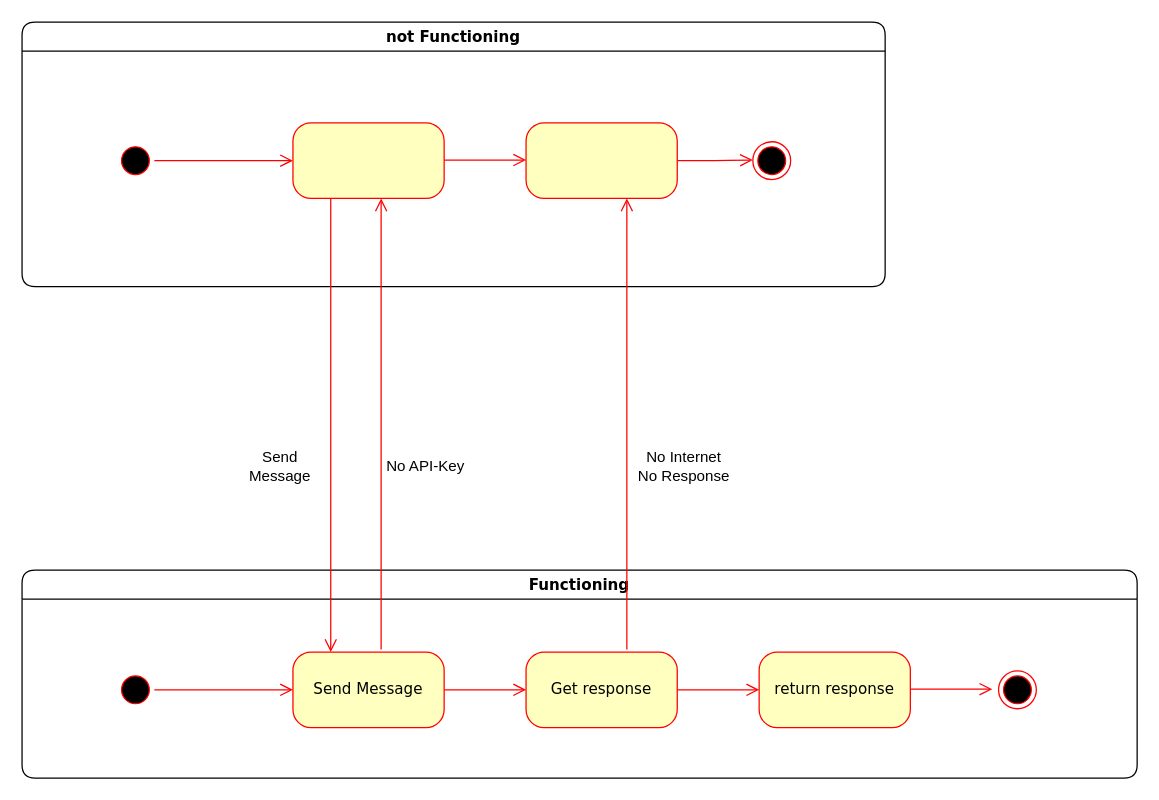
This 1159x800 diagram has some shape labels left out. The box of each missing label's shape, as (x1, y1, x2, y2) in pixels:
finite Wait: (525, 122, 677, 198)
Set API-Key: (292, 122, 444, 198)
